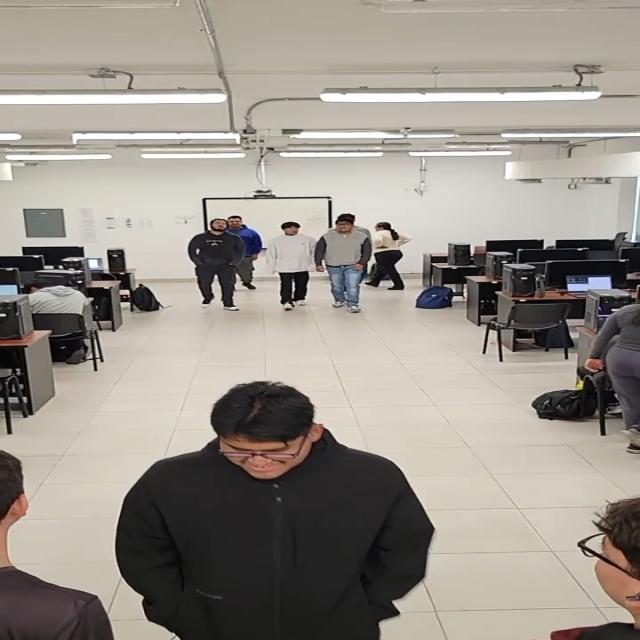Persona: (112, 379, 435, 640), (0, 448, 118, 640), (545, 495, 639, 640), (313, 217, 373, 313), (187, 218, 248, 312), (265, 222, 320, 311), (364, 221, 412, 290), (222, 215, 262, 290), (326, 213, 374, 246)
